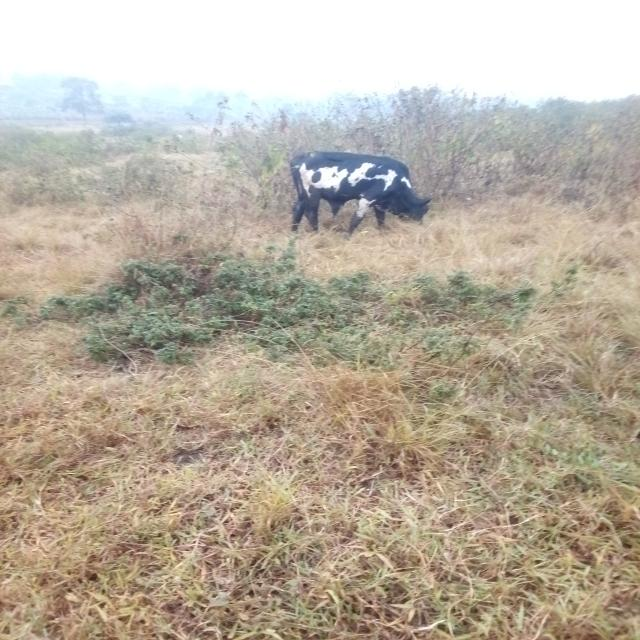cow: (233, 110, 482, 268)
